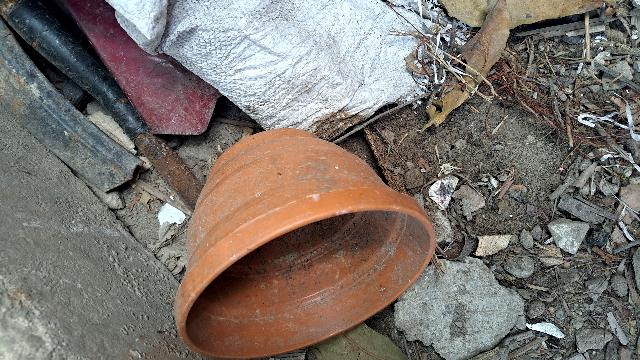hardplastic: (164, 138, 465, 360), (53, 0, 220, 150)
